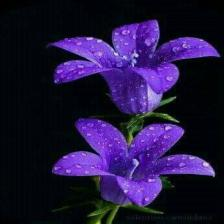purple: (50, 20, 220, 121), (52, 119, 214, 207)
